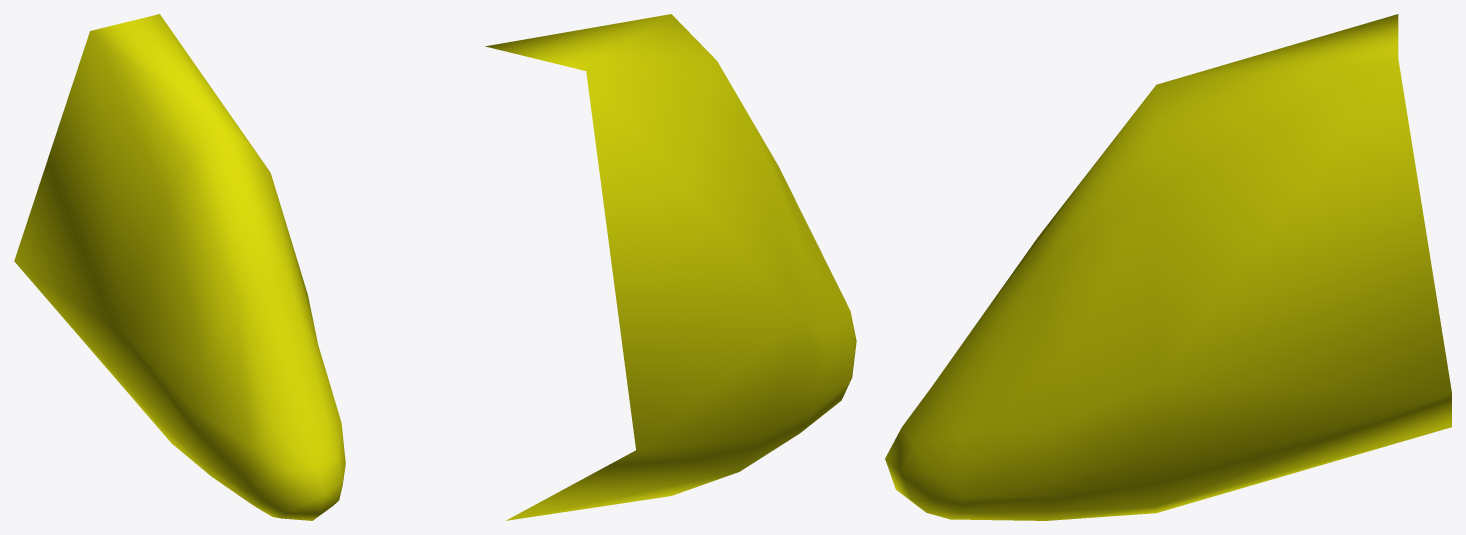
The model's file is Nose_8.glb.
The picture shows the model from 3 angles, left to right: view 1: azimuth 30°, elevation 25°; view 2: azimuth 150°, elevation 25°; view 3: azimuth 270°, elevation 25°; orthographic projection. The views are drawn at different scales.
Size of the model in its own units: 10 by 19.59 by 21.1.
